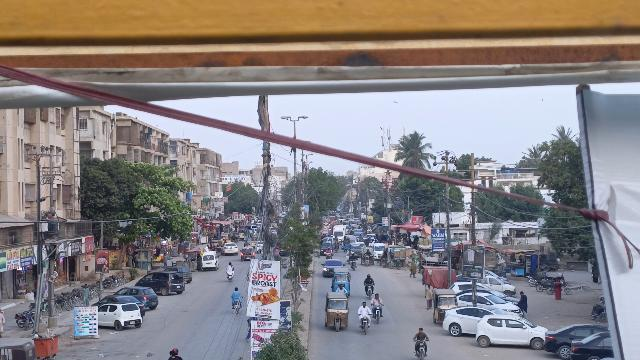Bike: (413, 337, 431, 359), (357, 314, 371, 336), (372, 303, 384, 324), (364, 282, 376, 298), (231, 299, 241, 315), (226, 273, 235, 284)
Car: (473, 310, 548, 348), (543, 319, 604, 359), (443, 306, 501, 335), (135, 271, 187, 296), (95, 304, 145, 329), (568, 331, 612, 359), (119, 285, 160, 310), (166, 265, 193, 283)
Person: (516, 289, 532, 314), (423, 281, 435, 311), (355, 299, 373, 317), (413, 325, 431, 342), (371, 290, 384, 307), (231, 285, 243, 300), (364, 272, 376, 286), (225, 261, 235, 273)
Rickshaw: (322, 291, 353, 332), (432, 288, 459, 327), (329, 268, 352, 296)
Van: (199, 251, 220, 272)
